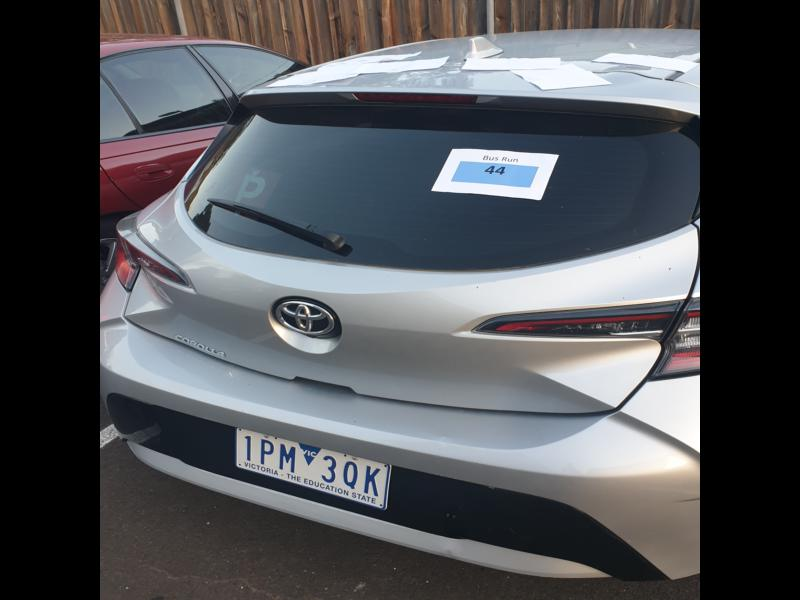BusRun: (450, 160, 539, 188)
PlateNo: (234, 425, 389, 510)
